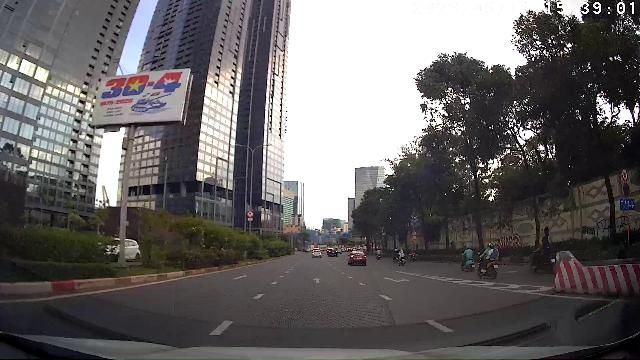127-toc-do-toi-da-60: (622, 168, 628, 182)
